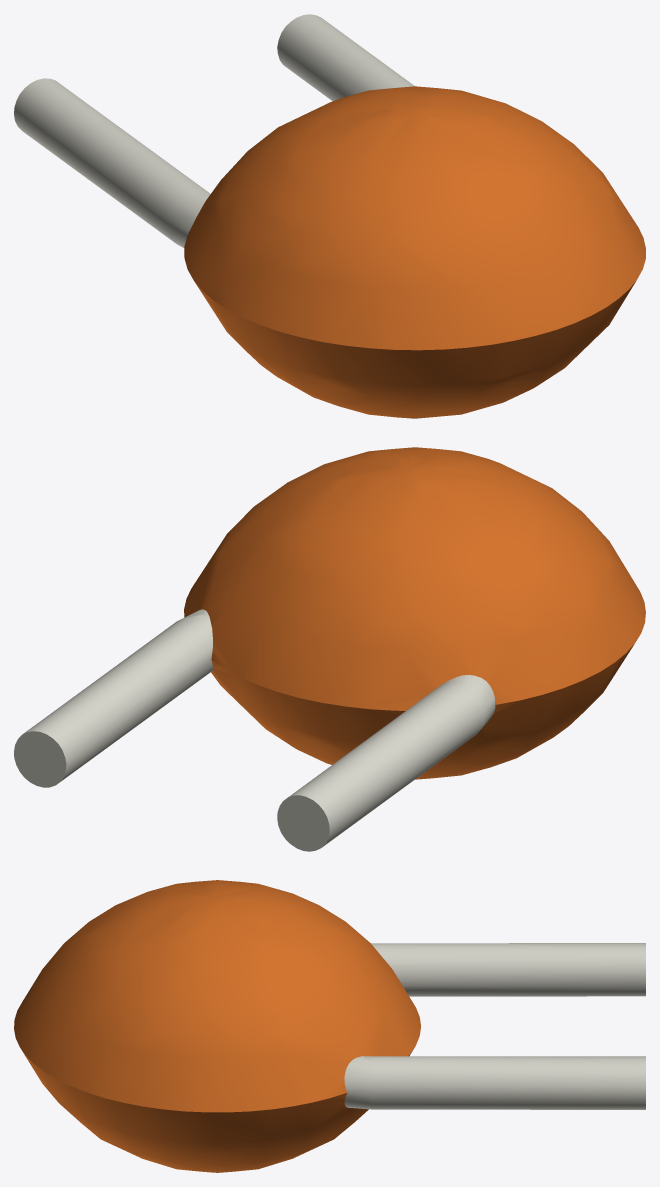
File: c-disc-d3.8-w2.6-p2.50.glb
The picture shows the model from 3 angles, top to bottom: view 1: azimuth 30°, elevation 25°; view 2: azimuth 150°, elevation 25°; view 3: azimuth 270°, elevation 25°; orthographic projection. The views are drawn at different scales.
Visible parts, largest first — view 1: PLASTIC-ORANGE-01, PIN-01; view 2: PLASTIC-ORANGE-01, PIN-01; view 3: PLASTIC-ORANGE-01, PIN-01.
Part boxes in pixels (x1=…): PLASTIC-ORANGE-01: x1=184, y1=86, x2=645, y2=418; PIN-01: x1=14, y1=14, x2=414, y2=247; PLASTIC-ORANGE-01: x1=184, y1=447, x2=645, y2=779; PIN-01: x1=14, y1=609, x2=495, y2=851; PLASTIC-ORANGE-01: x1=14, y1=880, x2=420, y2=1172; PIN-01: x1=344, y1=943, x2=645, y2=1109.
Bounding box in the file's own units: 3.8 × 2.6 × 5.9.
